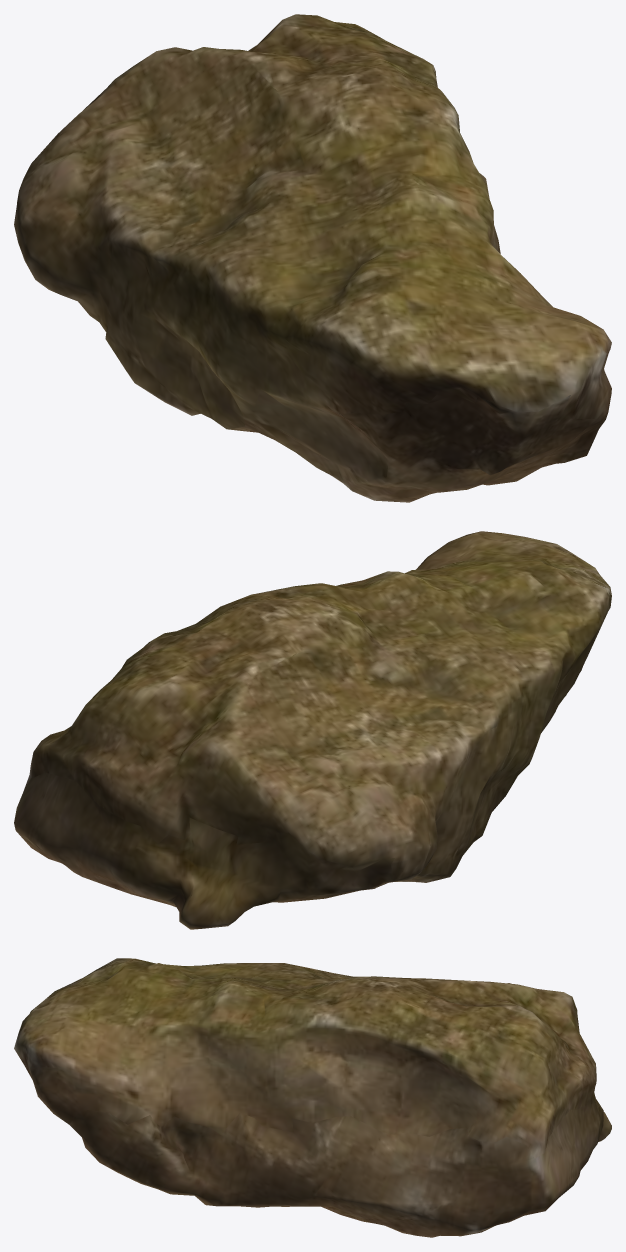
Rendered from SM_RockMoss_A05.gltf.
The picture shows the model from 3 angles, top to bottom: view 1: azimuth 30°, elevation 25°; view 2: azimuth 150°, elevation 25°; view 3: azimuth 270°, elevation 25°; orthographic projection. The views are drawn at different scales.
Parts seen in each view (by area): view 1: SM_RockMoss_A05; view 2: SM_RockMoss_A05; view 3: SM_RockMoss_A05.
Part boxes in pixels (bbox=[...]): SM_RockMoss_A05: bbox=[14, 14, 611, 502]; SM_RockMoss_A05: bbox=[14, 531, 611, 929]; SM_RockMoss_A05: bbox=[14, 958, 611, 1237].
Size of the model in its own units: 1.82 by 1.21 by 3.
Materials: 1 (1 with a texture image).
